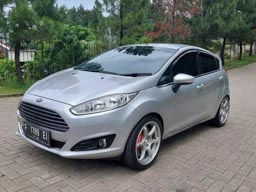plat: (22, 123, 50, 147)
